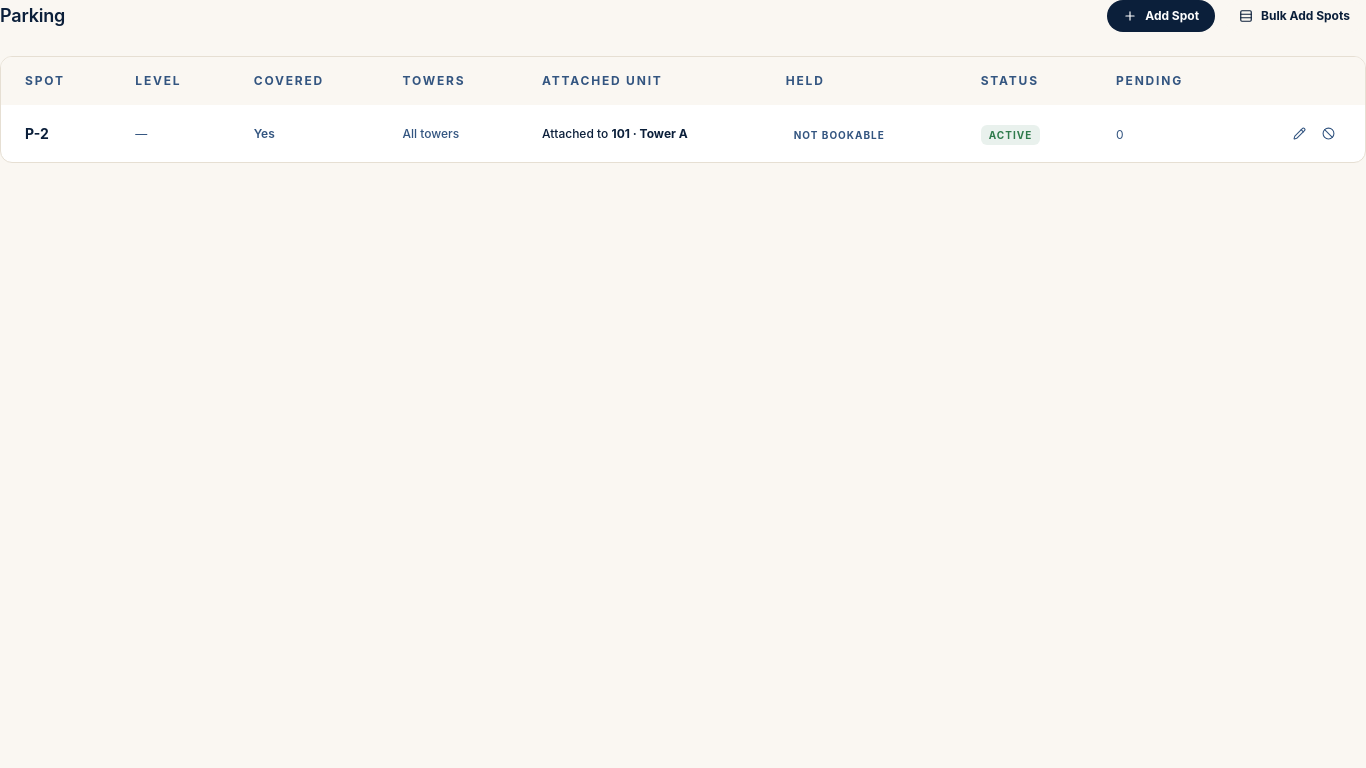
Scenario: ParkingTab attached unit › lists every unit of the property for a bay that is not scoped to towers, and pre-selects the attachment
Click the button named "Edit Spot". click: (1300, 134)
box: [1287,121,1312,146]
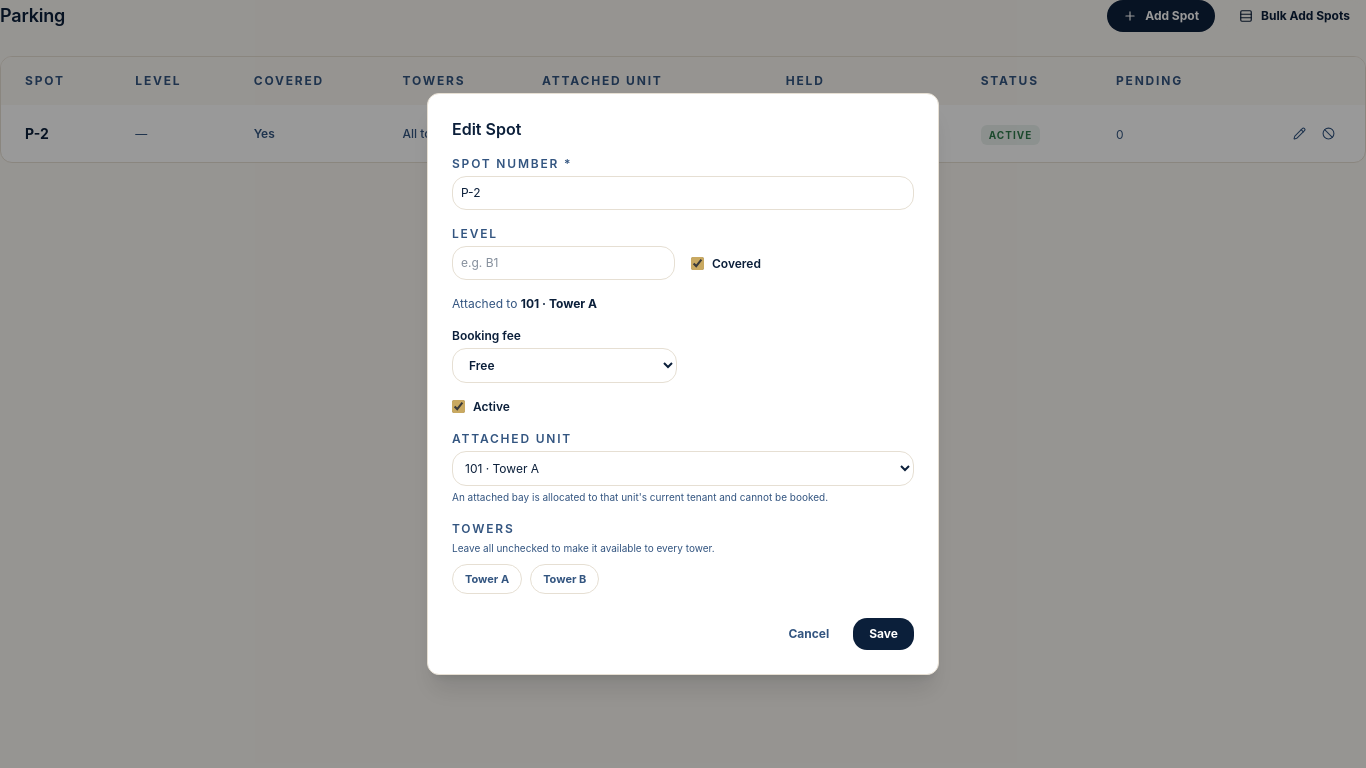
Result: the dropdown with test id "spot-attached-unit" shows "101 · Tower A" at [452,451,914,486]
